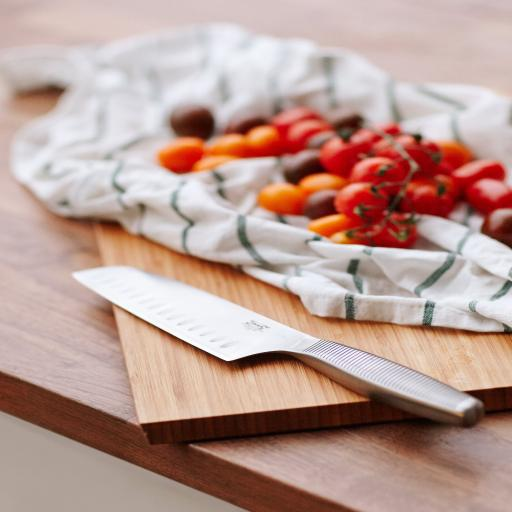knife: (64, 261, 495, 433)
